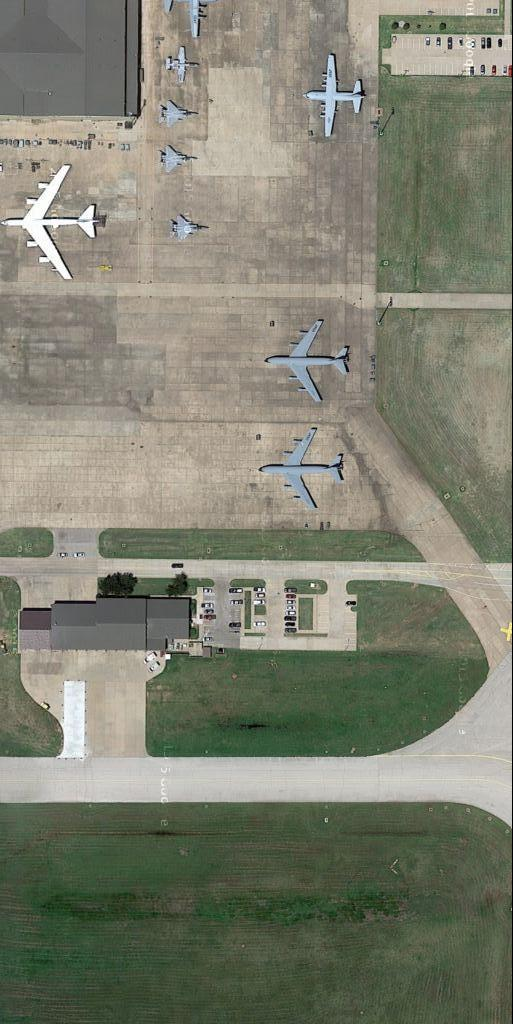A-10: (162, 42, 201, 90)
B-52: (2, 159, 109, 286)
C-130: (304, 49, 369, 140)
F-15: (156, 141, 201, 175), (157, 96, 200, 130), (166, 211, 211, 243)
KC-135: (260, 314, 358, 407), (259, 427, 348, 514)
